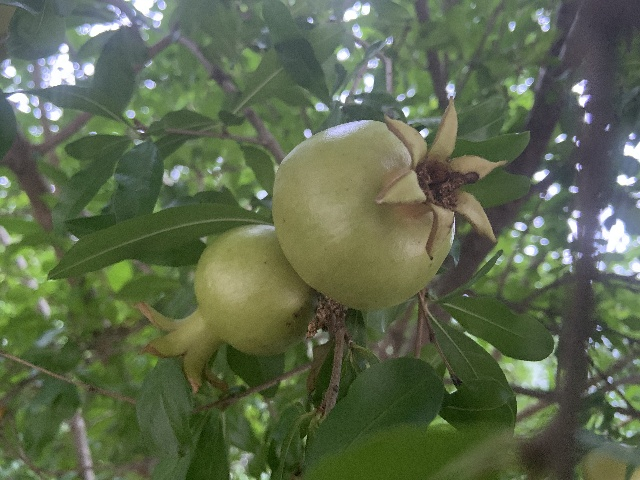mid-growth: (272, 98, 511, 310), (135, 223, 313, 396), (576, 448, 639, 480)
